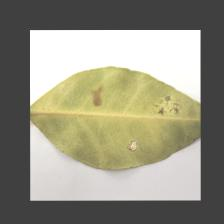black spot: (86, 77, 122, 119)
